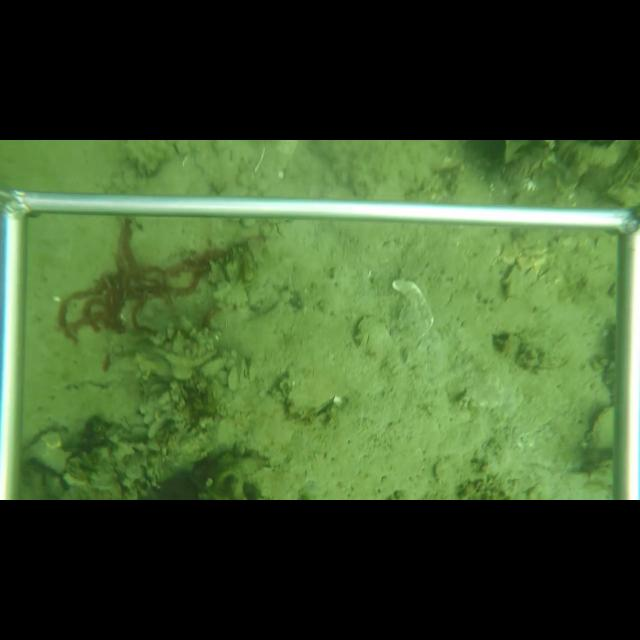Oyster-Closed: (282, 368, 353, 423), (582, 404, 614, 449)
